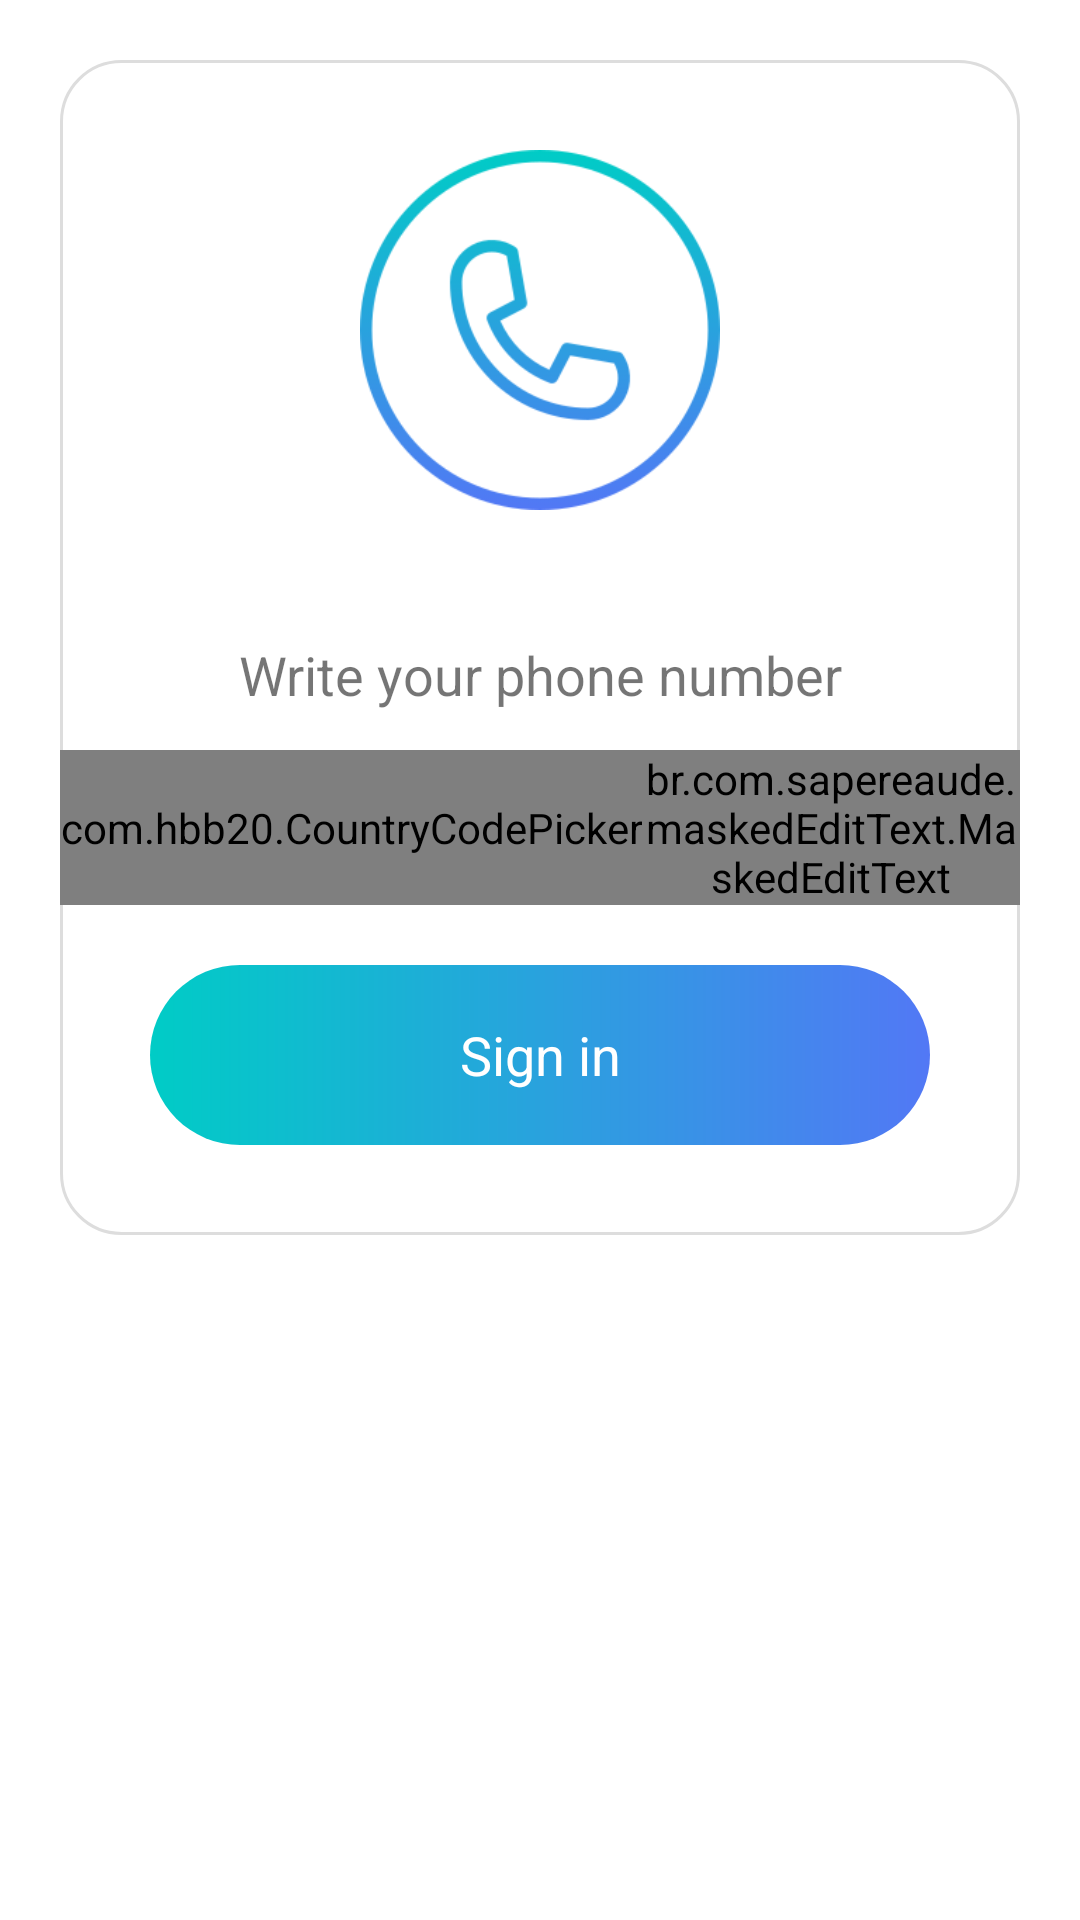

Icon click points for this 1080x1920 phone screenshot, format [x,y]:
phone pipe: [540,330]
